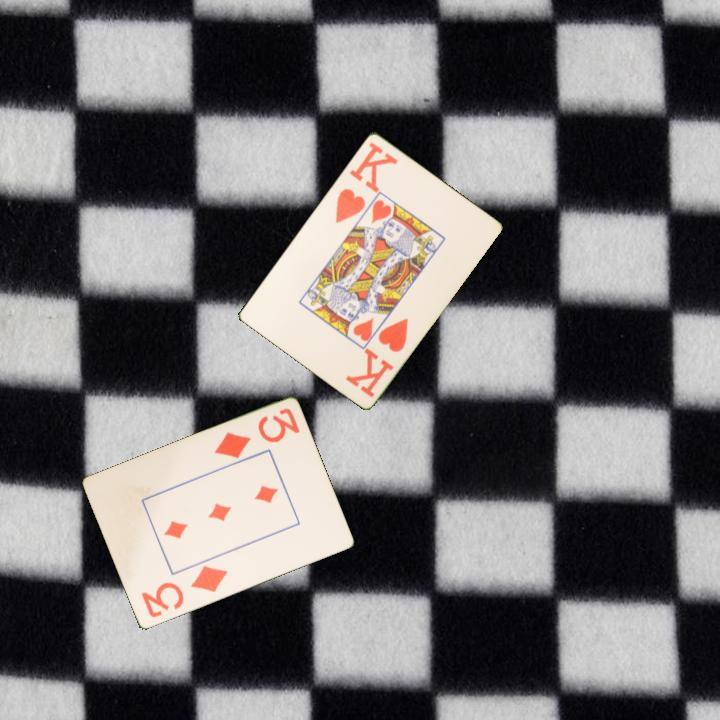3d: (137, 562, 231, 621), (210, 405, 303, 462)
Kh: (331, 138, 401, 226), (342, 314, 411, 400)
